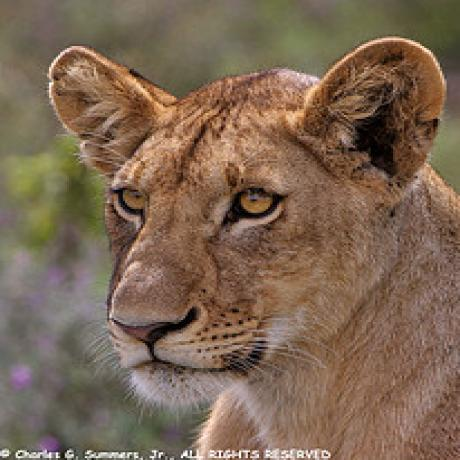Lion: (47, 38, 460, 460)
